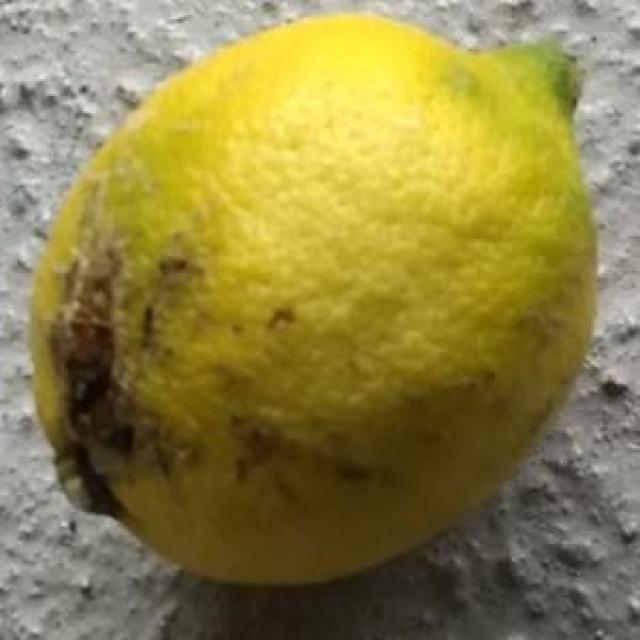lemon: (20, 13, 617, 589)
